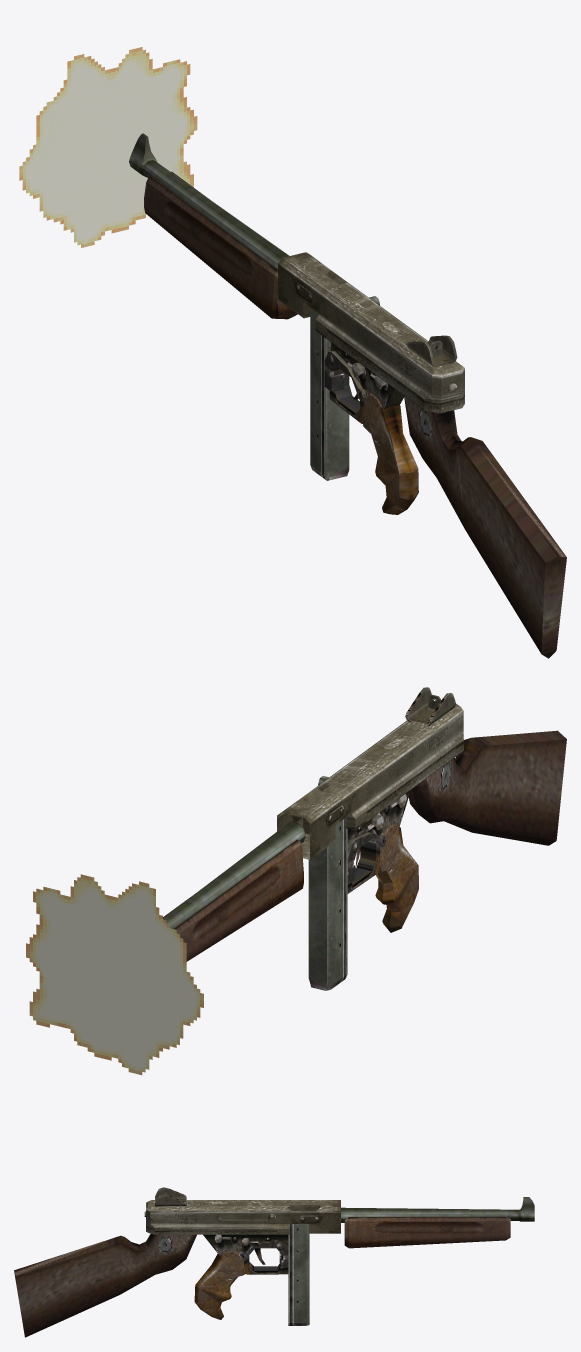
File: Wpn_Thomson.fbx
The picture shows the model from 3 angles, top to bottom: view 1: azimuth 30°, elevation 25°; view 2: azimuth 150°, elevation 25°; view 3: azimuth 270°, elevation 25°; orthographic projection. The views are drawn at different scales.
Parts seen in each view (by area): view 1: fpv_weapon, flash, magazine; view 2: fpv_weapon, flash, magazine; view 3: fpv_weapon, magazine.
Part boxes in pixels (<box>): fpv_weapon: <box>129,133,566,658</box>; flash: <box>19,47,197,247</box>; magazine: <box>310,307,349,480</box>; fpv_weapon: <box>163,687,566,961</box>; flash: <box>26,874,203,1075</box>; magazine: <box>308,817,347,990</box>; fpv_weapon: <box>14,1187,534,1337</box>; magazine: <box>288,1224,309,1325</box>.
Bounding box in the file's own units: 16.16 × 23.74 × 63.95.
